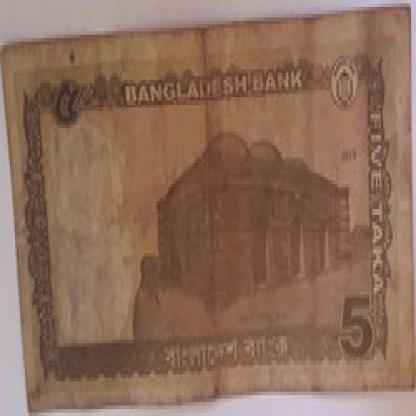Five Taka: (338, 284, 374, 368), (52, 73, 83, 142)
